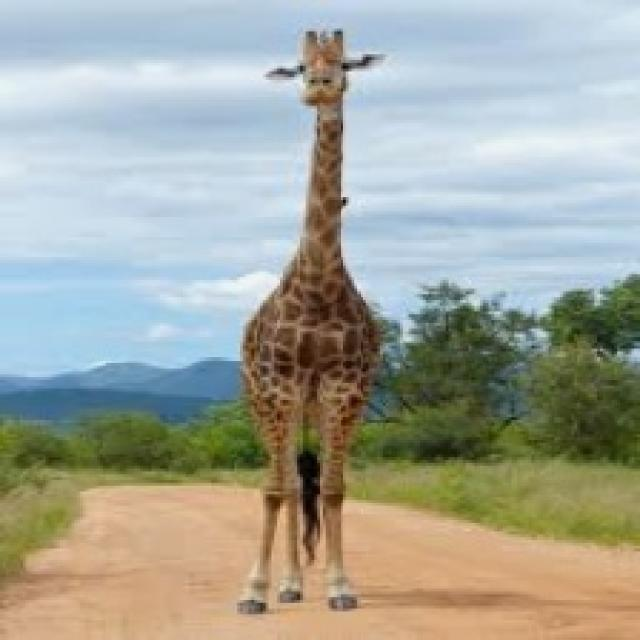bear: (191, 34, 470, 624)
